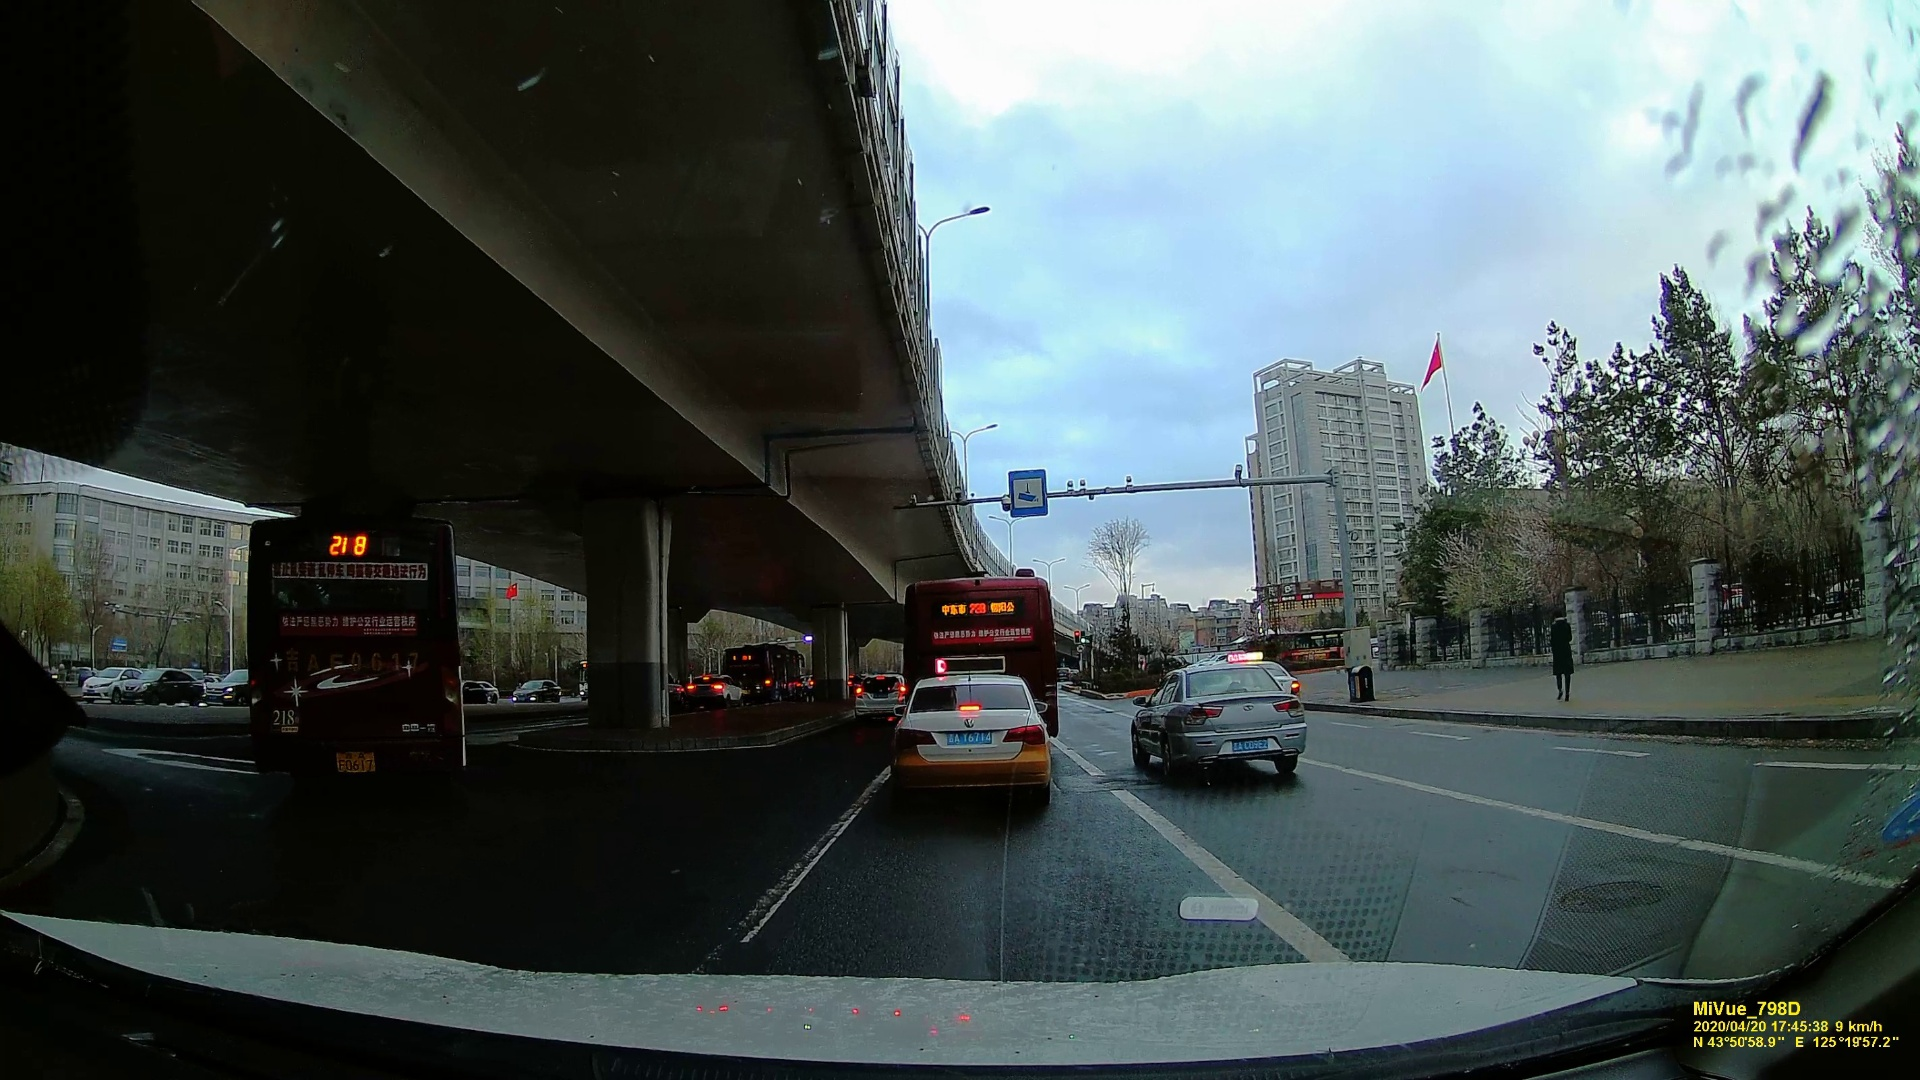bus: (249, 520, 465, 796), (725, 646, 804, 704)
person: (1548, 613, 1575, 704)
traffic_sign: (906, 575, 1050, 731), (1005, 469, 1046, 512)
vehicle: (1127, 655, 1315, 780), (889, 671, 1052, 803), (120, 669, 205, 703), (851, 673, 902, 718), (505, 677, 561, 703)
